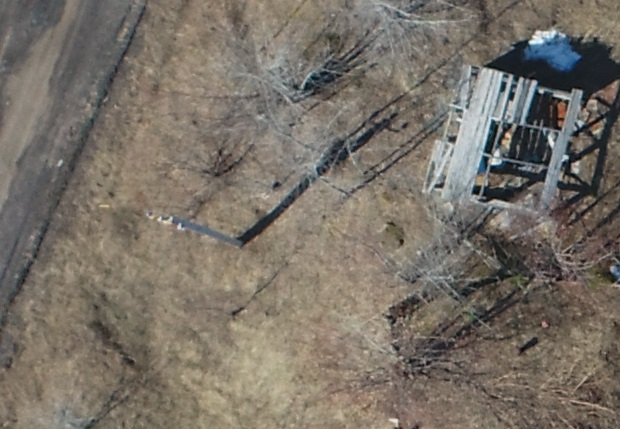opora: (142, 195, 294, 250)
